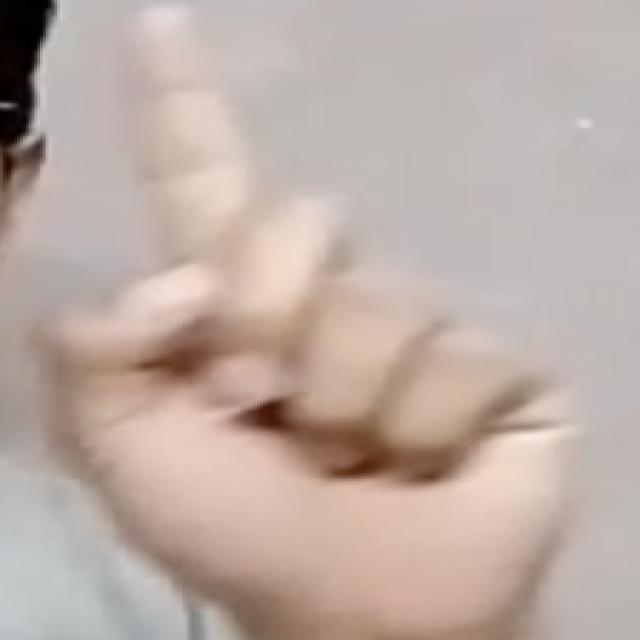Z: (23, 1, 582, 635)
